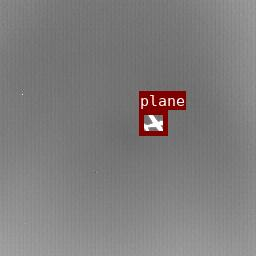plane: (139, 110, 167, 135)
